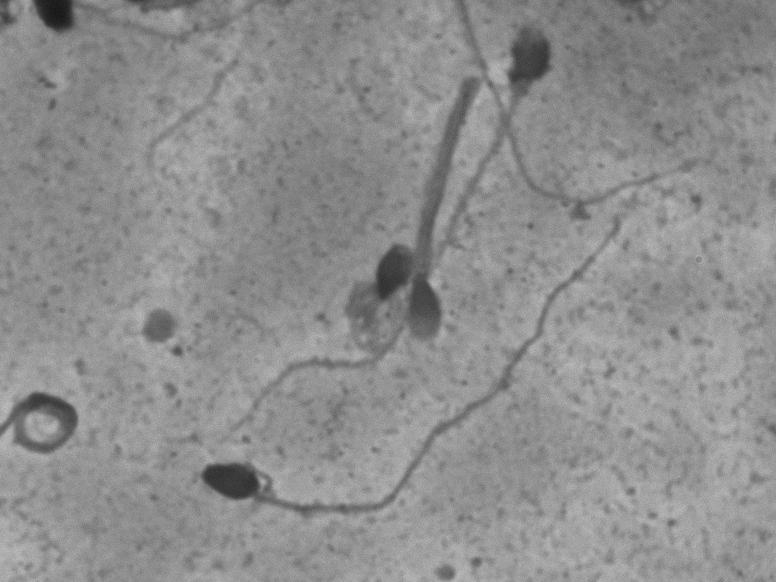Abnormal: (302, 56, 492, 359), (168, 383, 500, 537)
